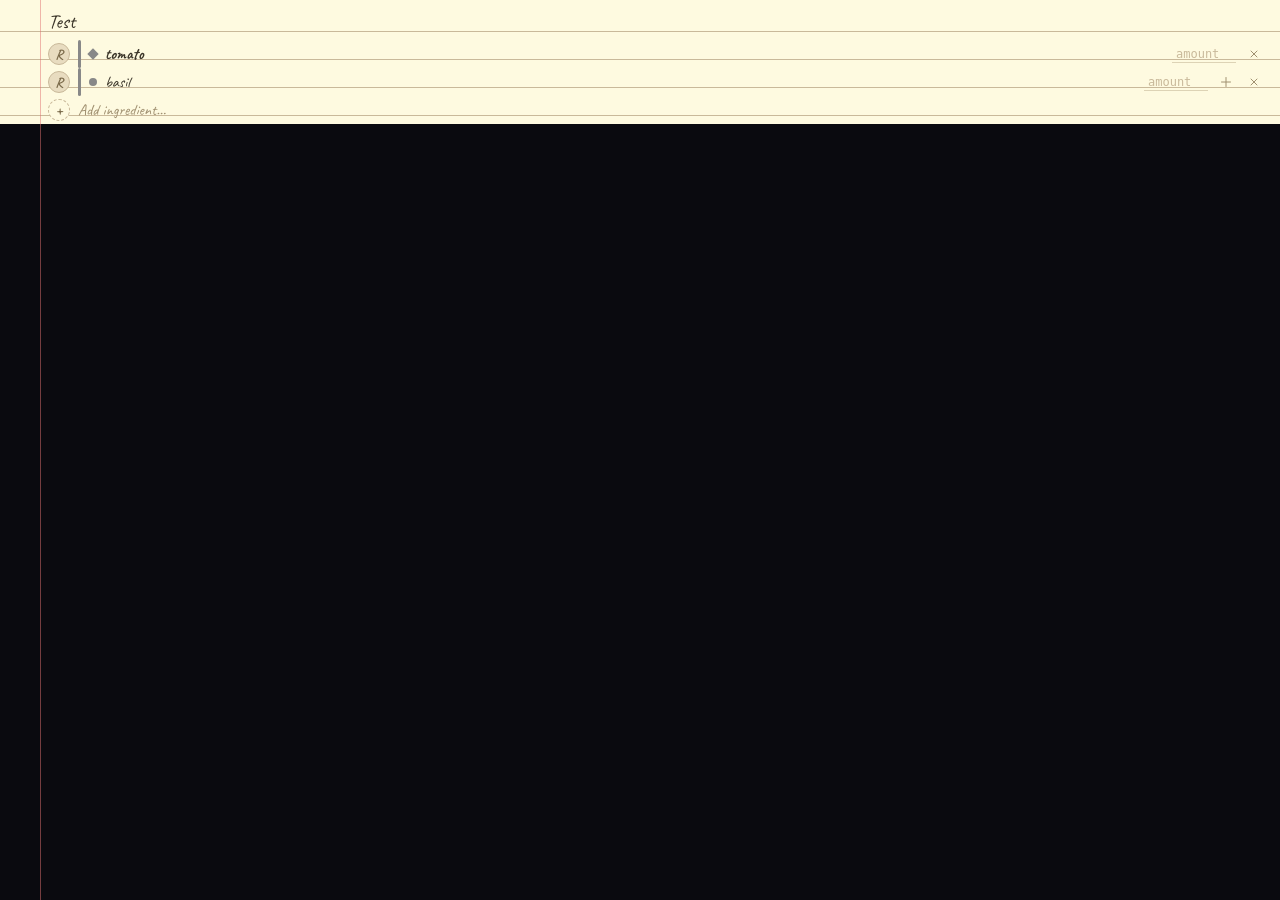
Test: RecipeNotebook — RL-FOCAL-FLAG (§13.3 focal popover + badge) › right-click on a row opens the focal popover with "Set as focal"
Right-click the element with test id "notebook-row-tomato": [124, 54] box [48, 40, 1272, 68]
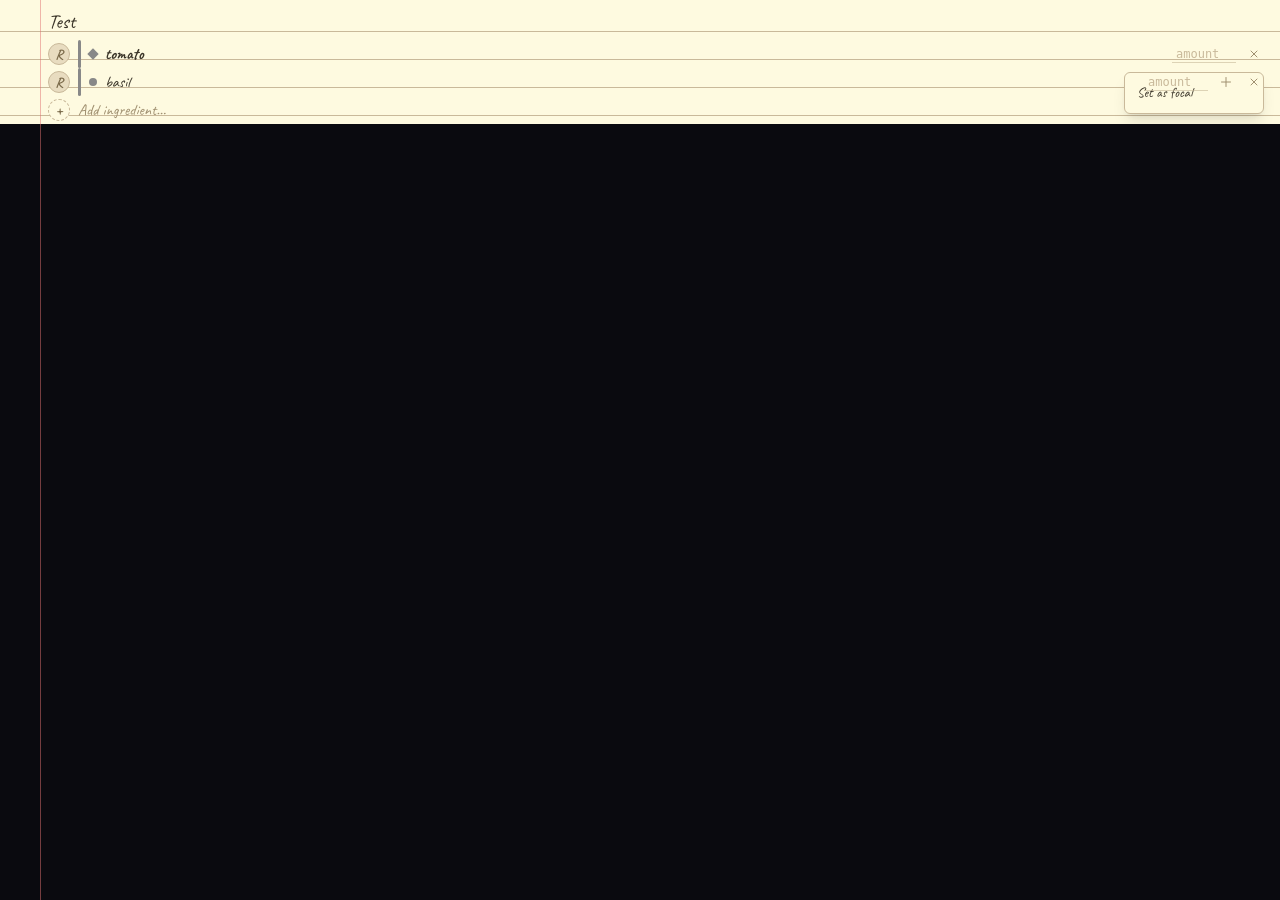
Check: the element with test id "focal-menu-tomato" is shown, box [1124, 72, 1264, 114]
Check: the button with test id "focal-menu-toggle-tomato" reads "Set as focal", box [1125, 73, 1263, 113]
